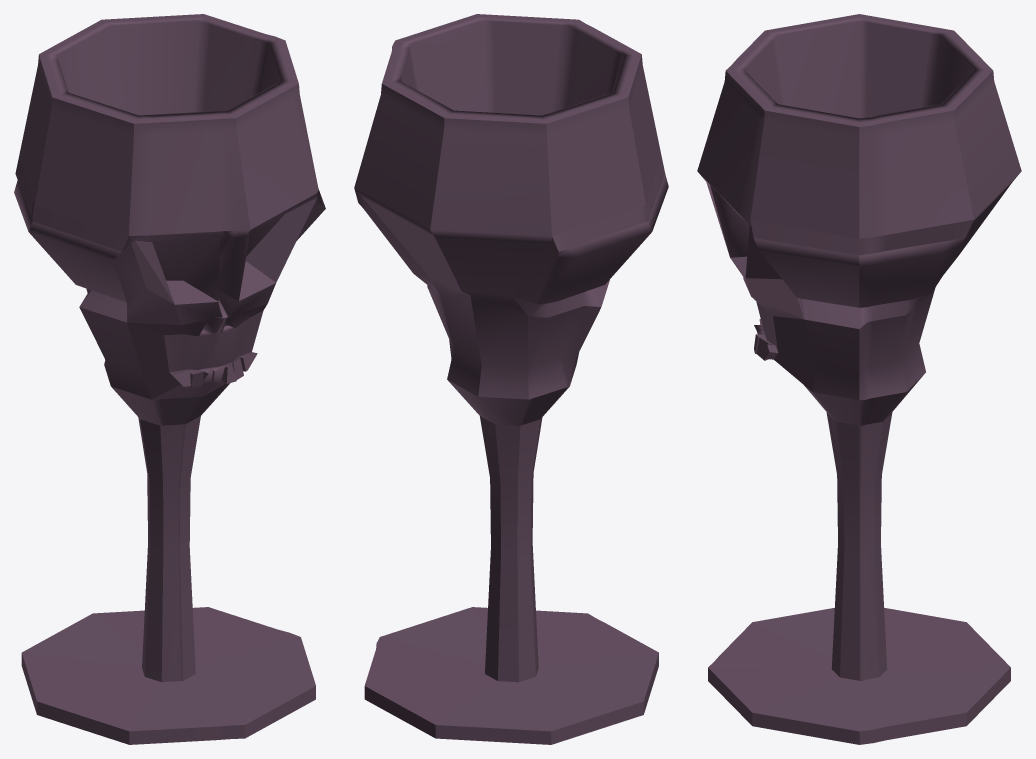
File: Pride_Chalice.fbx
The picture shows the model from 3 angles, left to right: view 1: azimuth 30°, elevation 25°; view 2: azimuth 150°, elevation 25°; view 3: azimuth 270°, elevation 25°; orthographic projection.
Visible parts, largest first — view 1: pasted__Wine_glass3; view 2: pasted__Wine_glass3; view 3: pasted__Wine_glass3.
Boxes of the visible parts, x1,y1,x2,y2 form: pasted__Wine_glass3: [14, 14, 325, 744]; pasted__Wine_glass3: [354, 14, 668, 744]; pasted__Wine_glass3: [697, 14, 1021, 744].
Bounding box in the file's own units: 0.3288 × 0.6875 × 0.3309.
